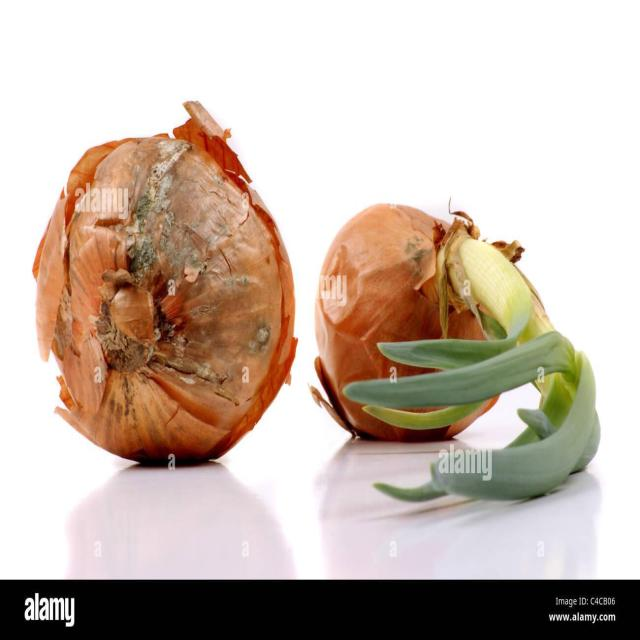Onion: (31, 99, 300, 463), (341, 234, 599, 500), (313, 201, 524, 441)
